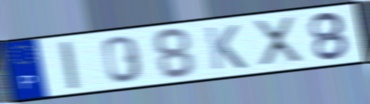0: (102, 33, 144, 85)
8: (151, 26, 199, 82), (307, 10, 350, 62)
I: (56, 39, 82, 91)
K: (202, 23, 249, 72)
X: (250, 14, 307, 67)
